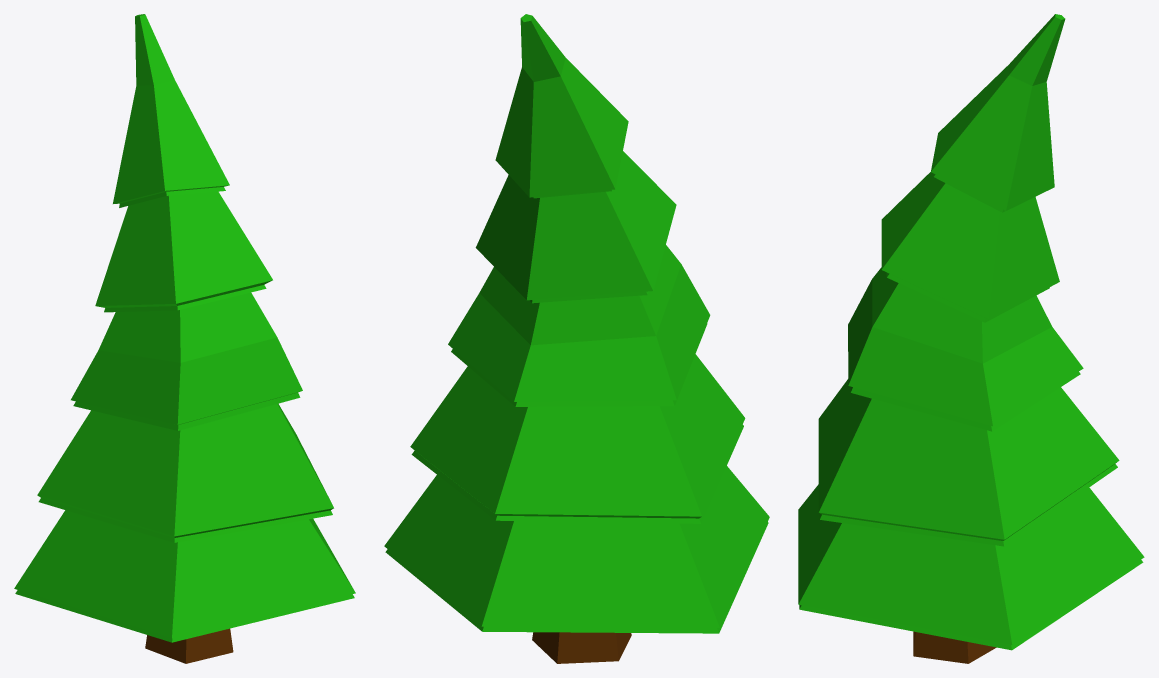
File: tree1.glb
3 renders of one model, left to right at view 1: azimuth 30°, elevation 25°; view 2: azimuth 150°, elevation 25°; view 3: azimuth 270°, elevation 25°, orthographic. The views are drawn at different scales.
Parts seen in each view (by area): view 1: Cylinder; view 2: Cylinder; view 3: Cylinder.
Boxes of the visible parts, left/top/right/bottom form: Cylinder: left=14, top=14, right=355, bottom=663; Cylinder: left=384, top=14, right=769, bottom=663; Cylinder: left=798, top=14, right=1144, bottom=663.
Bounding box in the file's own units: 2.04 × 3.89 × 1.94.
